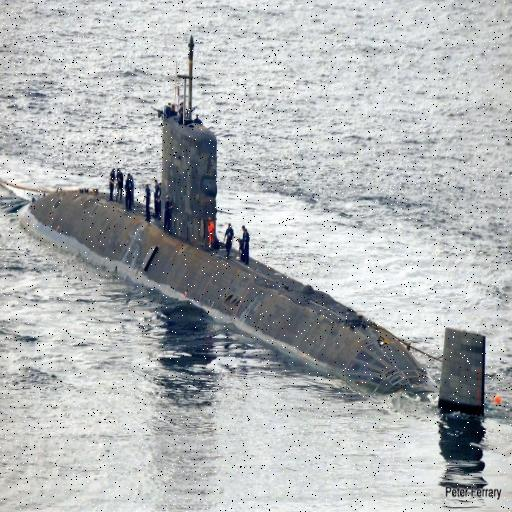submarine: (19, 25, 488, 419)
